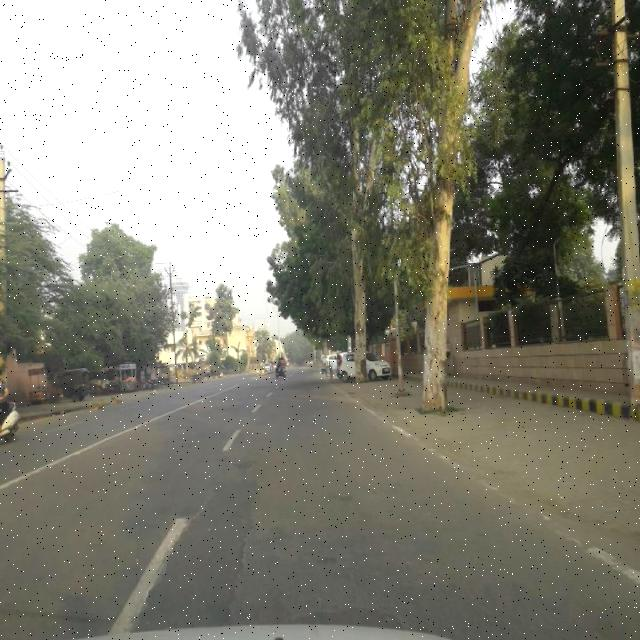D44: (478, 481, 608, 557), (388, 415, 474, 478)
